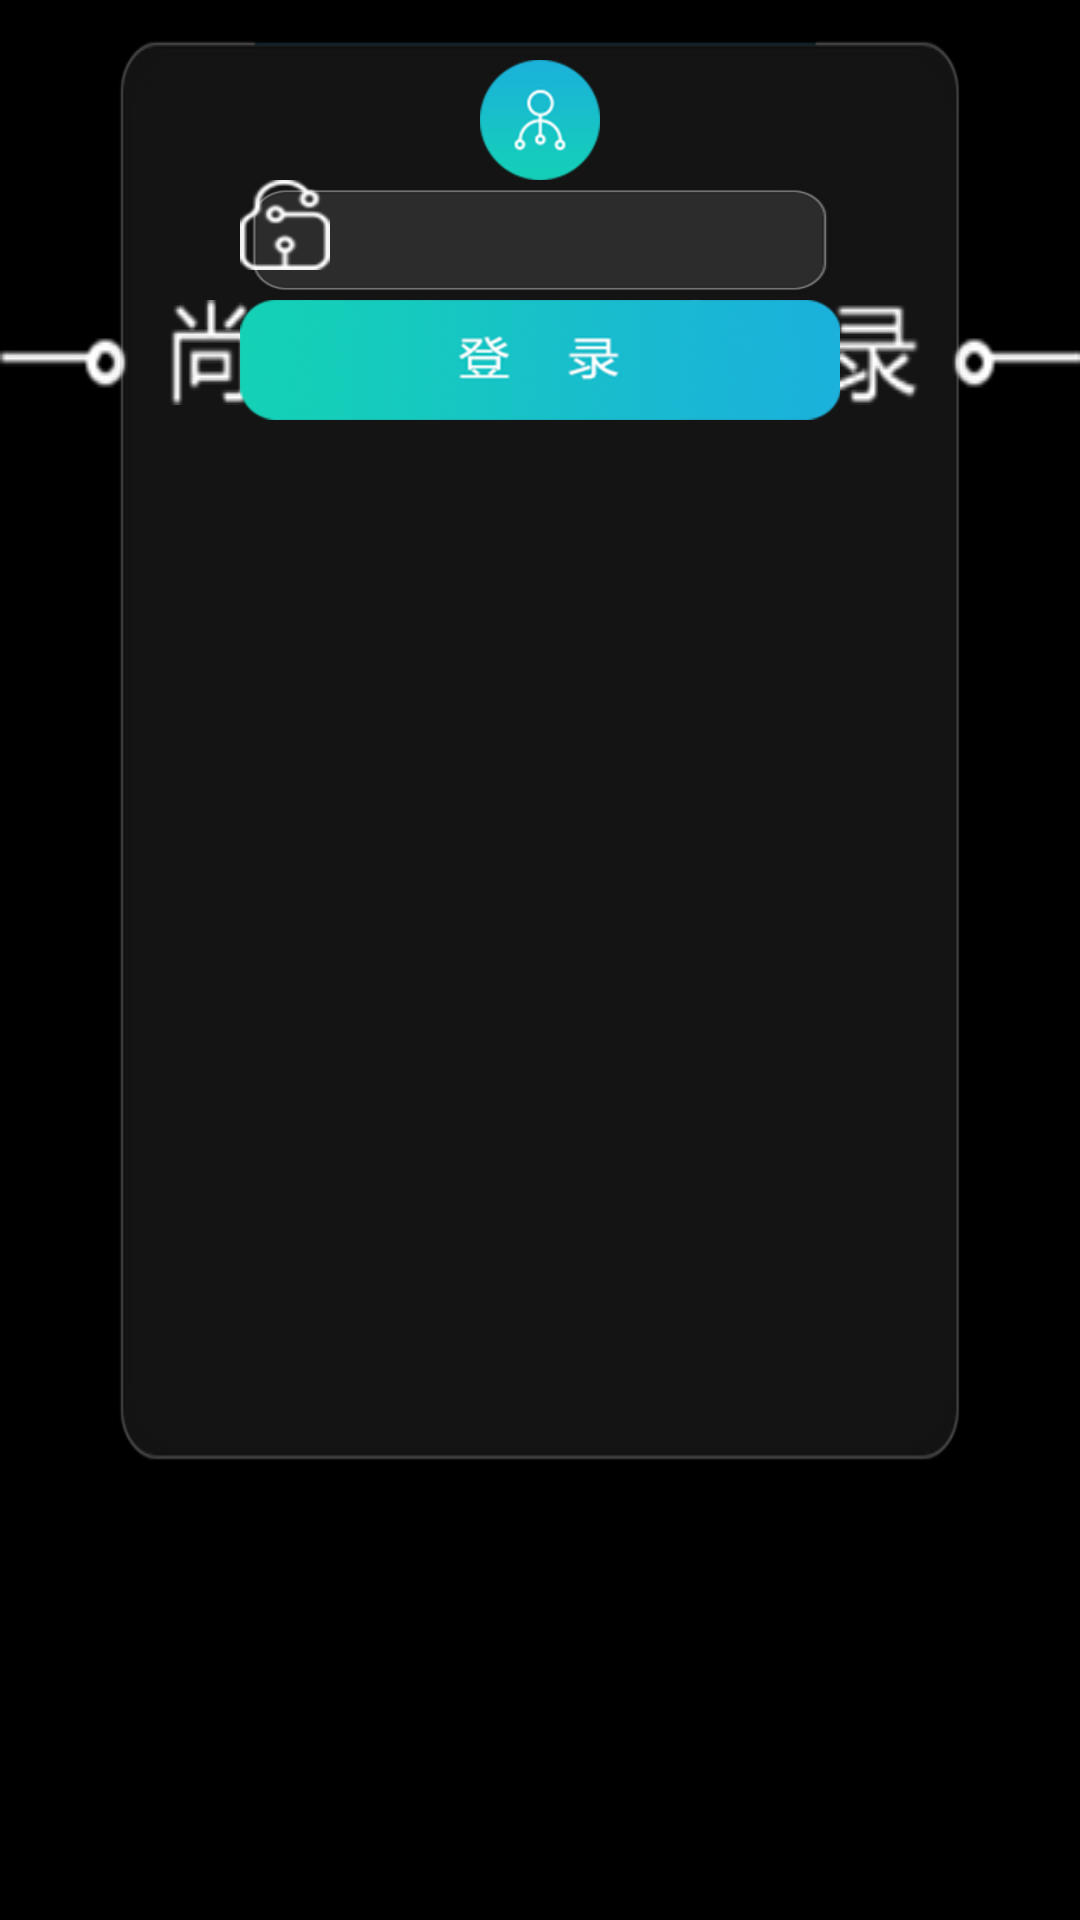

Icon click points for this 1080*1920 phone screenshot, format point (x, y):
denglu: point (540, 120)
